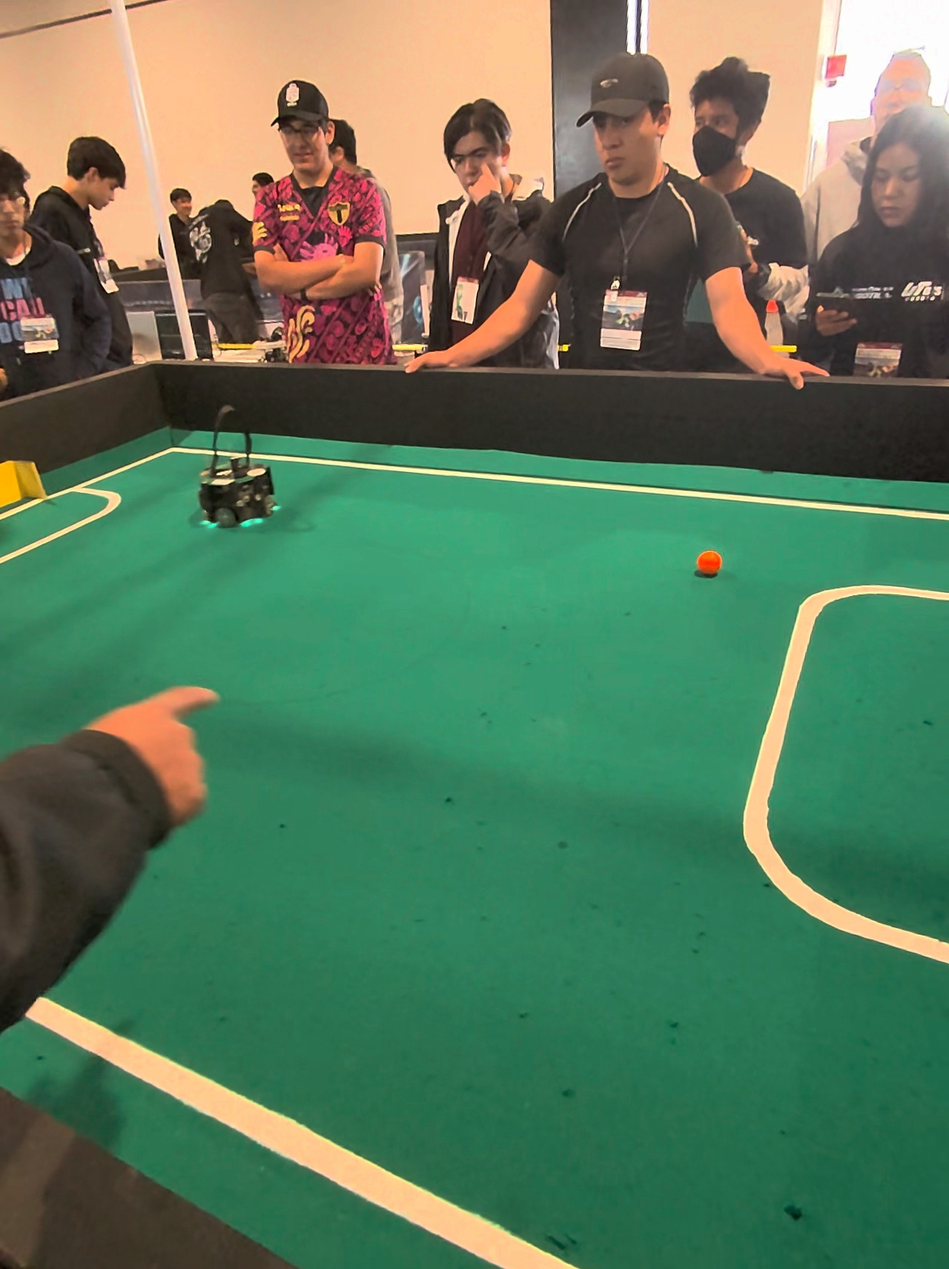Robot: (198, 401, 288, 537)
pelota: (688, 542, 734, 590)
